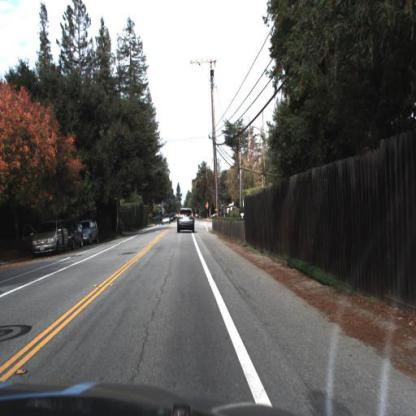car: (30, 225, 68, 257), (176, 207, 198, 238), (65, 219, 86, 250), (66, 221, 86, 252), (82, 218, 100, 245), (160, 214, 171, 230)
